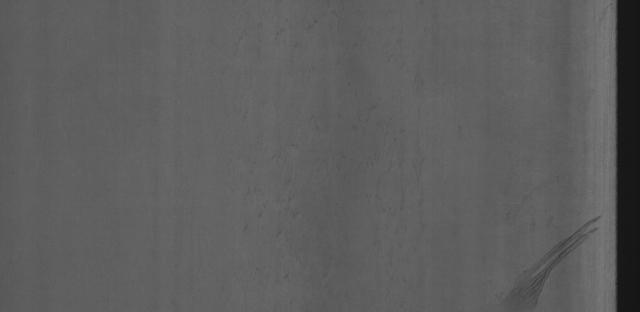silk_spot: (250, 69, 424, 288)
water_spot: (498, 210, 614, 311)
